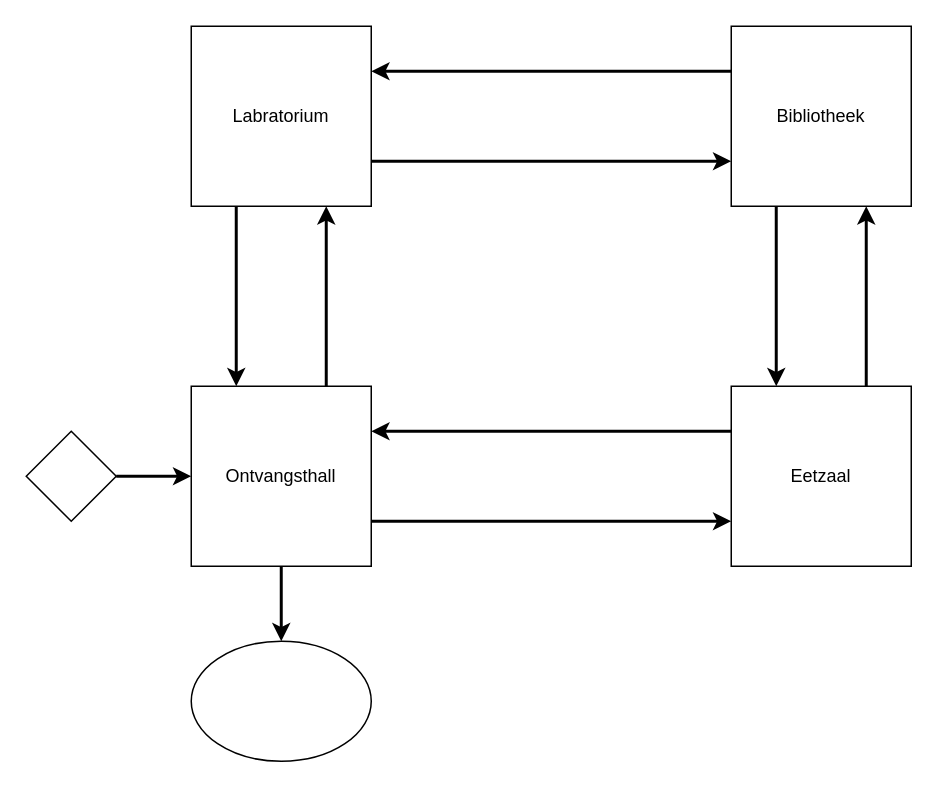
The diagram is 938 pixels wide and 788 high, and some of its shapes have lost their labels. Here are the shapes that lost their labels. From the top down, the centre of each, then its label:
point (70, 475): Start
point (280, 700): Kluis met "het antwoord"
